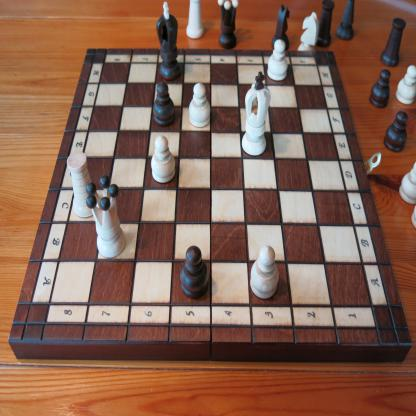black-bishop: (336, 0, 356, 39)
black-king: (156, 0, 182, 82)
black-knight: (272, 1, 290, 50)
black-pawn: (180, 244, 209, 300), (383, 110, 409, 154), (152, 81, 176, 127), (368, 68, 392, 110)
black-queen: (217, 0, 239, 50)
black-rook: (380, 17, 406, 68), (316, 0, 337, 47)
white-king: (241, 70, 271, 156)
white-knight: (298, 10, 320, 50)
white-pawn: (250, 244, 279, 301), (150, 134, 176, 184), (188, 82, 211, 128), (267, 39, 287, 81), (395, 64, 416, 104), (399, 161, 415, 205)
white-queen: (86, 174, 126, 259)
white-rook: (66, 150, 92, 219), (185, 0, 205, 40)
